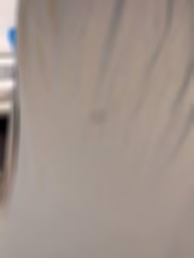oil: (84, 105, 115, 135)
